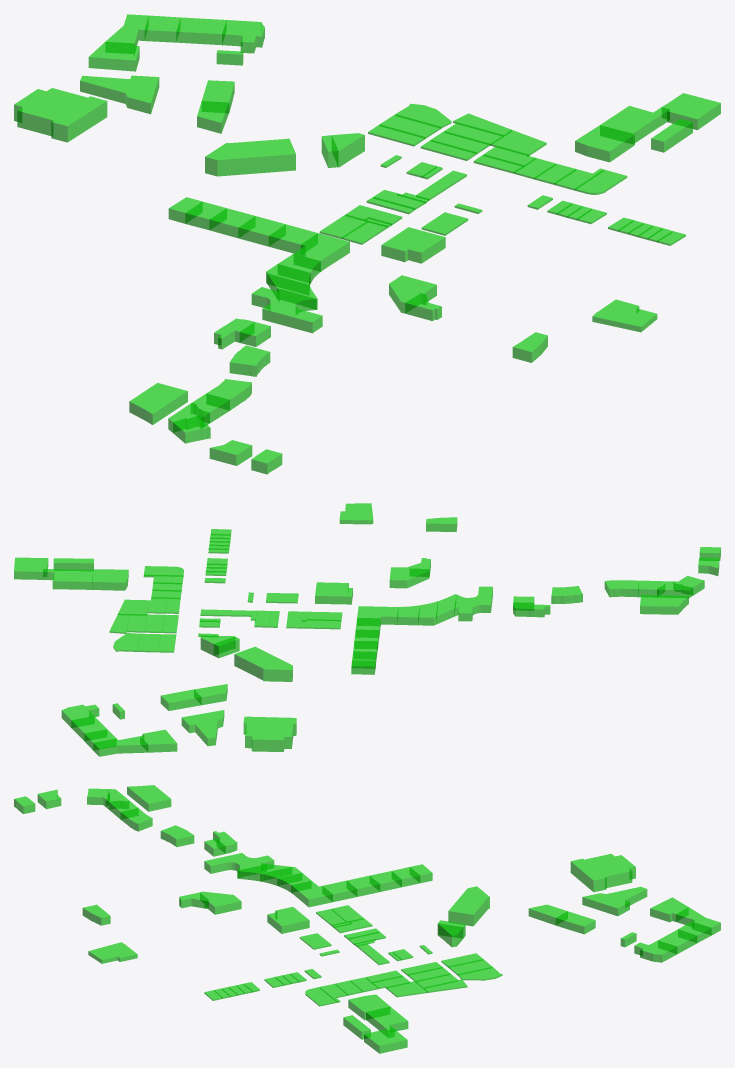
Rendered from XPlanPotential.glb.
3 views of the same model, one above another, from view 1: azimuth 30°, elevation 25°; view 2: azimuth 150°, elevation 25°; view 3: azimuth 270°, elevation 25° (orthographic). The views are drawn at different scales.
Size of the model in its own units: 432 by 9 by 494.
